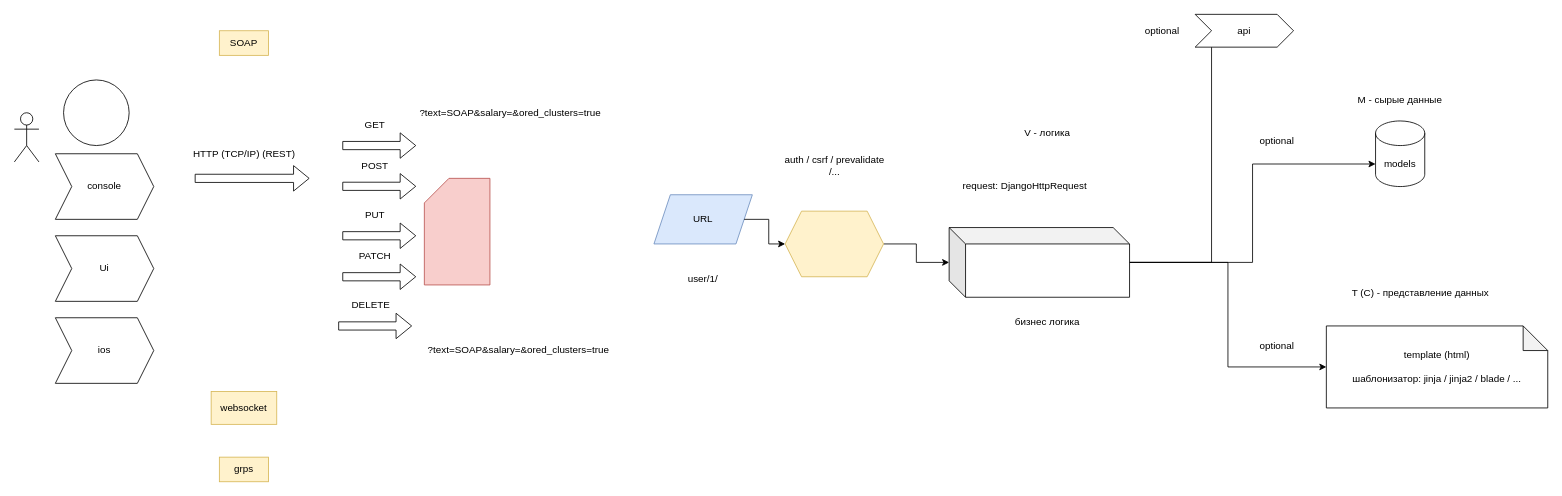
Image size: 1562x496. Some labels were removed from this diagram. Here are the shapes that lost their labels. From the top down, the centre of each, then its label:
At (x=96, y=112): "chrome".
At (x=26, y=137): "Actor".
At (x=457, y=231): "body".
At (x=834, y=243): "middleware".
At (x=1039, y=262): "View (def / class) - контроллер".
